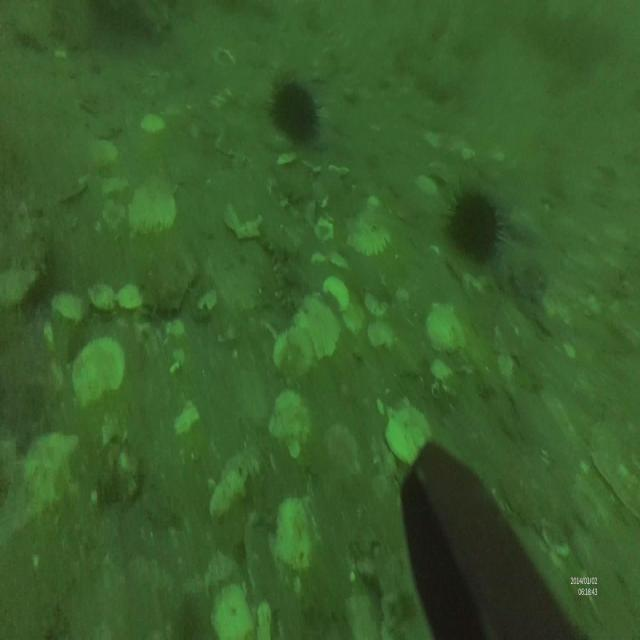echinus: (446, 183, 509, 263), (266, 74, 325, 144)
holothurian: (262, 221, 308, 316)
scallop: (72, 339, 126, 410), (129, 170, 183, 239), (298, 296, 340, 359), (273, 325, 317, 383), (347, 205, 392, 260)
